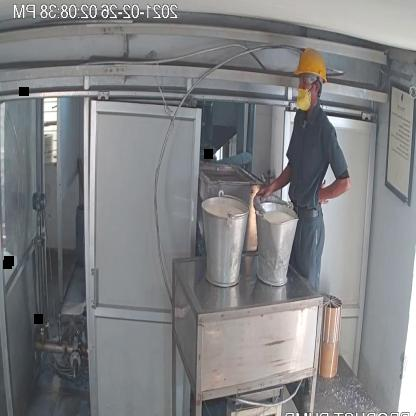helmet: (293, 46, 330, 82)
